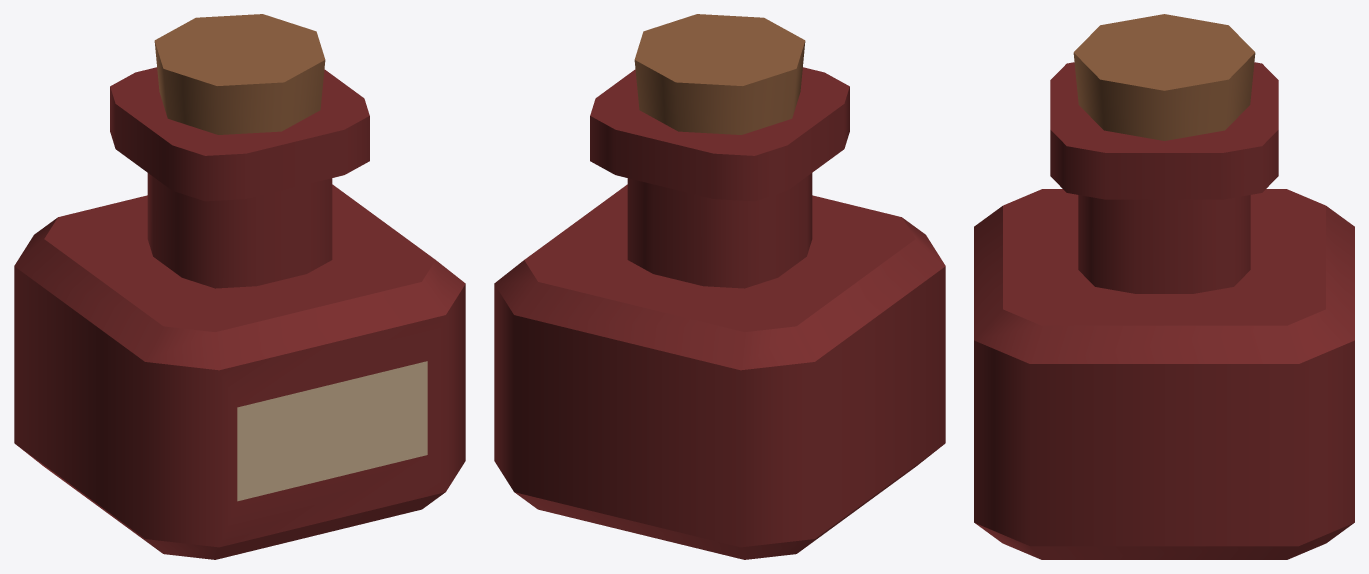
File: Potion_01.fbx
3 views of the same model, side by side, from view 1: azimuth 30°, elevation 25°; view 2: azimuth 150°, elevation 25°; view 3: azimuth 270°, elevation 25° (orthographic). The views are drawn at different scales.
Visible parts, largest first — view 1: Potion_01, Potion_01_Top; view 2: Potion_01, Potion_01_Top; view 3: Potion_01, Potion_01_Top.
Part boxes in pixels (x1,y1,x2,y2): Potion_01: (14,67,465,559); Potion_01_Top: (154,14,325,134); Potion_01: (494,67,945,559); Potion_01_Top: (634,14,805,134); Potion_01: (974,62,1354,559); Potion_01_Top: (1073,14,1255,140).
Bounding box in the file's own units: 0.1279 × 0.1626 × 0.1279.
